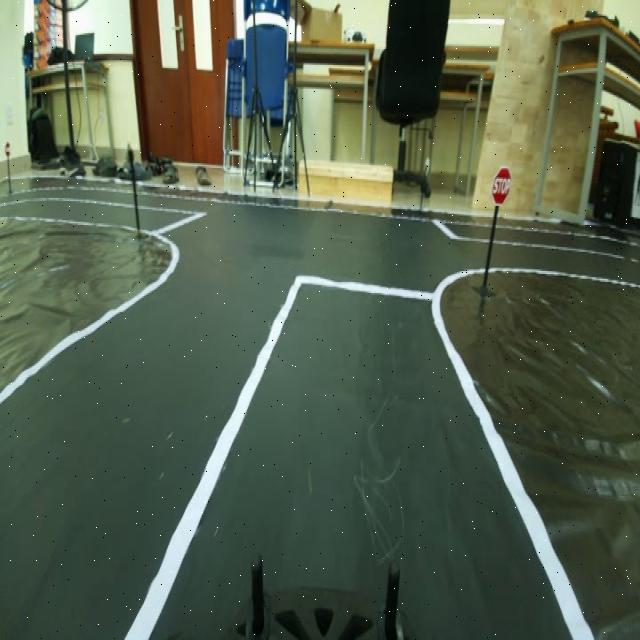stop: (490, 161, 515, 211)
